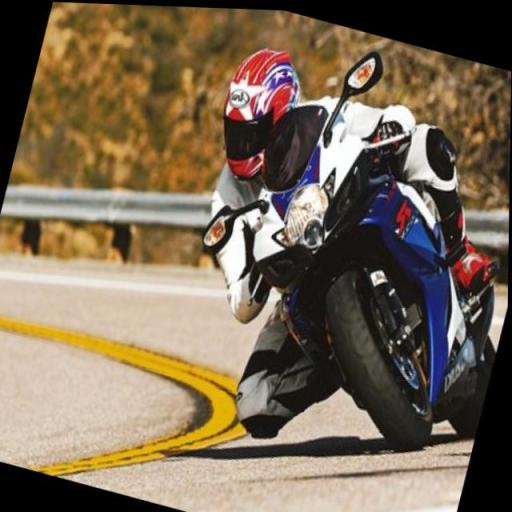Helmet: (202, 24, 320, 189)
Motor: (209, 51, 512, 473)
